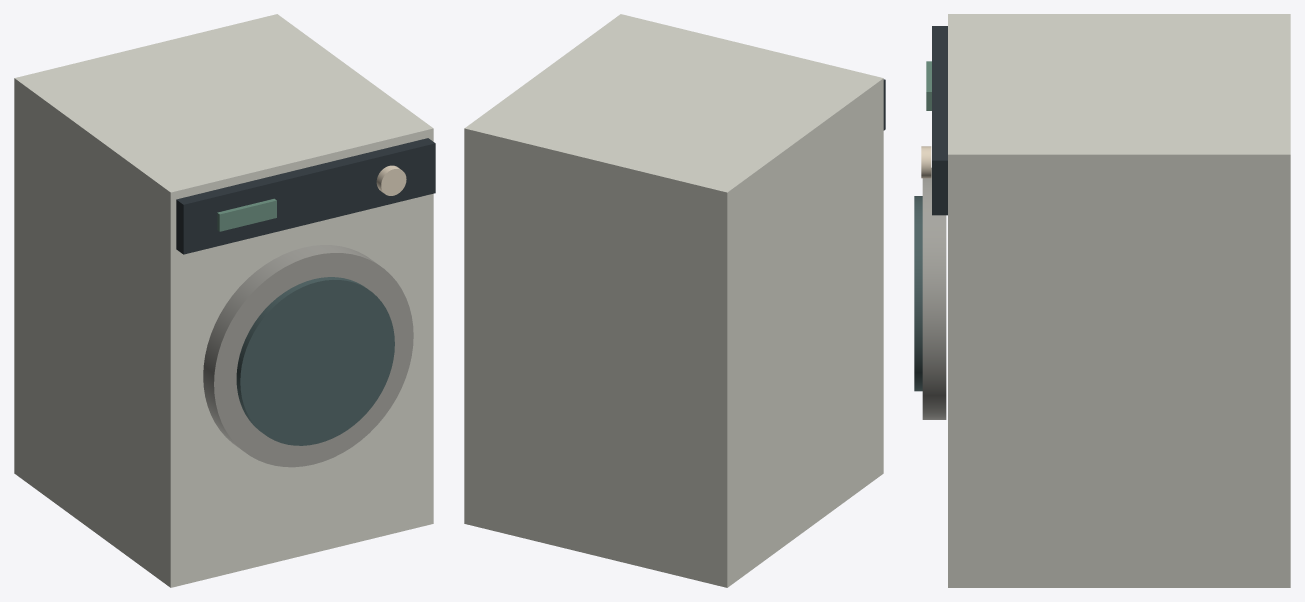
The model's file is washing_machine.glb.
3 renders of one model, left to right at view 1: azimuth 30°, elevation 25°; view 2: azimuth 150°, elevation 25°; view 3: azimuth 270°, elevation 25°, orthographic. The views are drawn at different scales.
Parts seen in each view (by area): view 1: Appliance case, Door glass, Door surround, Controls, Readout, Dial; view 2: Appliance case; view 3: Appliance case, Door surround, Controls, Door glass.
Boxes of the visible parts, bbox=[...] form: Appliance case: bbox=[14, 14, 433, 587]; Door glass: bbox=[236, 277, 394, 445]; Door surround: bbox=[203, 245, 413, 467]; Controls: bbox=[176, 138, 435, 254]; Readout: bbox=[217, 198, 276, 231]; Dial: bbox=[376, 165, 406, 195]; Appliance case: bbox=[464, 14, 883, 587]; Appliance case: bbox=[948, 14, 1290, 587]; Door surround: bbox=[922, 167, 946, 419]; Controls: bbox=[932, 26, 947, 215]; Door glass: bbox=[914, 196, 922, 391].
Bounding box in the file's own units: 0.602 × 0.865 × 0.681.
